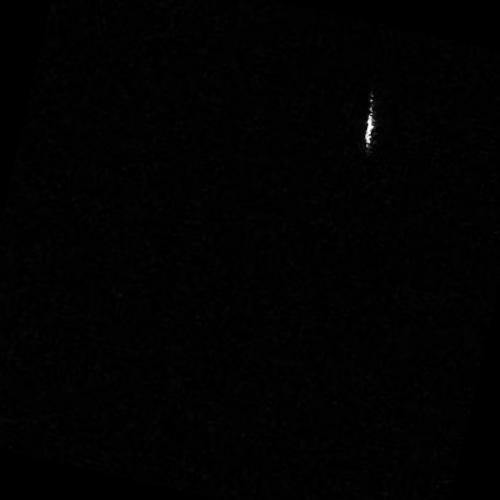ship: (363, 99, 375, 149)
